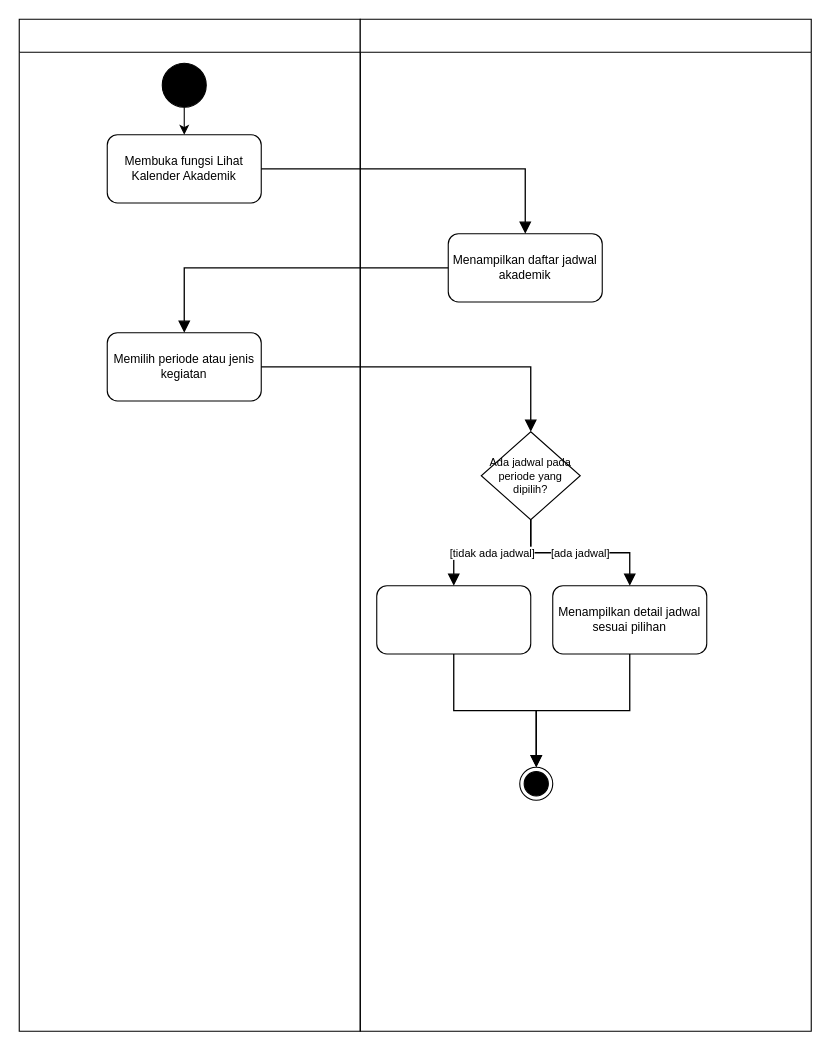
Some shapes in this 831 by 1051 pixel diagram are drawn without their labels. Each missing label, with the box of its shape:
Civitas Akademika: (18, 18, 360, 1031)
Menampilkan pesan tidak ada jadwal pada periode tersebut: (376, 585, 531, 654)
Sistem: (359, 18, 811, 1031)
